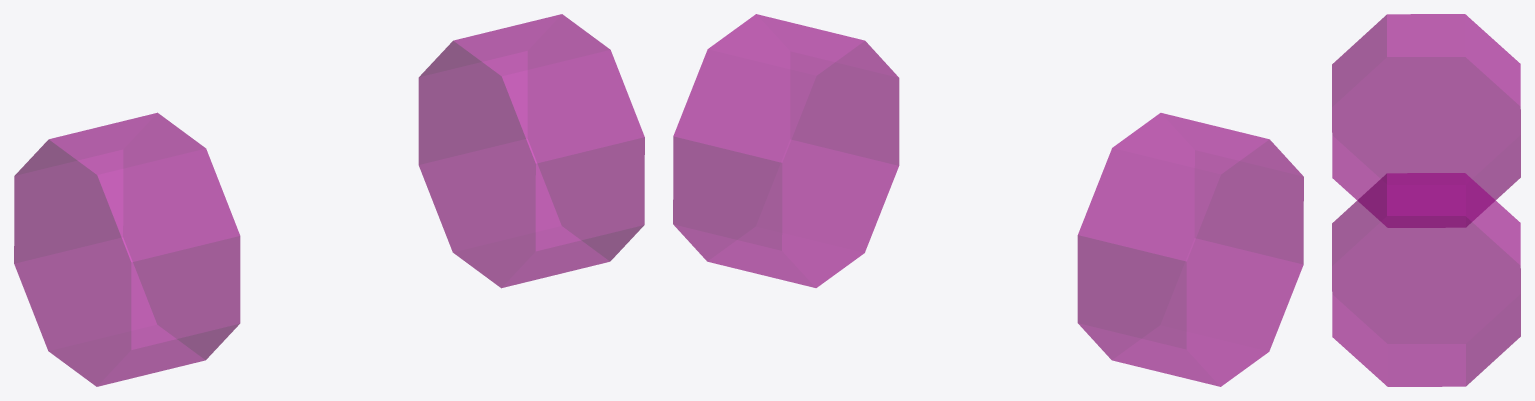
The model's file is SM_Veh_Carnival_Train_Wheel_Back_01_Collision.fbx.
3 renders of one model, left to right at view 1: azimuth 30°, elevation 25°; view 2: azimuth 150°, elevation 25°; view 3: azimuth 270°, elevation 25°, orthographic. The views are drawn at different scales.
Parts seen in each view (by area): view 1: SM_Veh_Carnival_Train_Wheel_Back_01_Collision; view 2: SM_Veh_Carnival_Train_Wheel_Back_01_Collision; view 3: SM_Veh_Carnival_Train_Wheel_Back_01_Collision.
Boxes of the visible parts, x1=… form: SM_Veh_Carnival_Train_Wheel_Back_01_Collision: x1=14, y1=14, x2=644, y2=386; SM_Veh_Carnival_Train_Wheel_Back_01_Collision: x1=673, y1=14, x2=1303, y2=386; SM_Veh_Carnival_Train_Wheel_Back_01_Collision: x1=1332, y1=14, x2=1520, y2=386.
Size of the model in its own units: 98.48 by 38.94 by 38.94.
